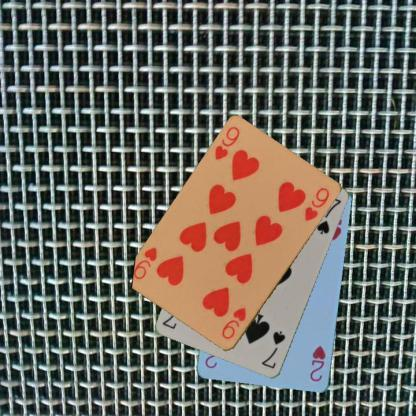2h: (307, 343, 327, 383)
7s: (259, 328, 287, 370)
9h: (212, 124, 241, 164), (219, 304, 248, 341)
